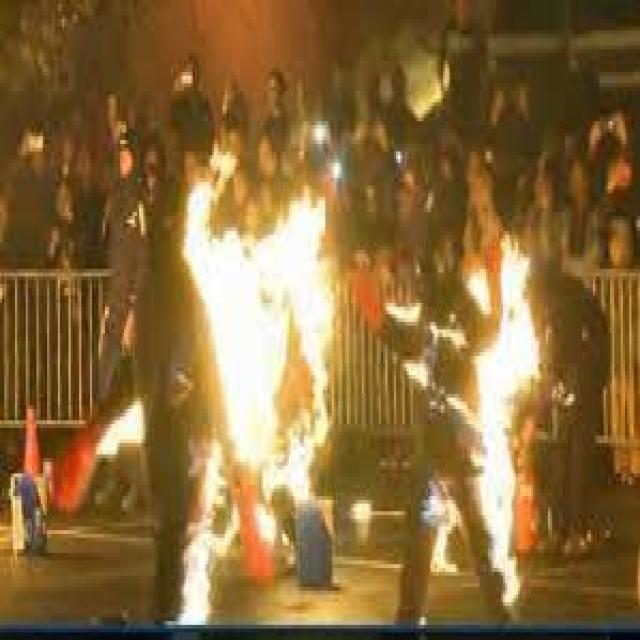fire: (172, 147, 346, 620), (416, 198, 544, 624), (79, 386, 151, 462)
